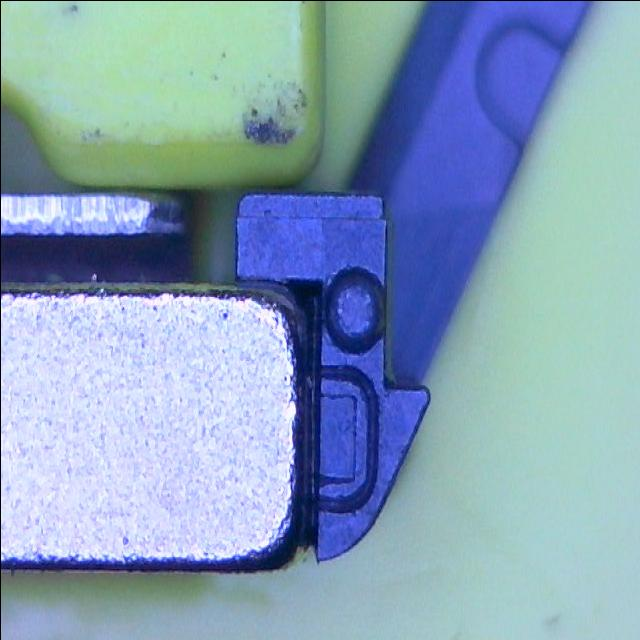lacking: (311, 361, 378, 515)
